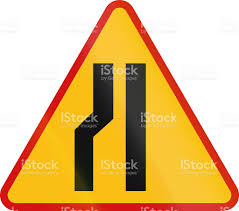Narrow_road: (1, 1, 237, 211)
